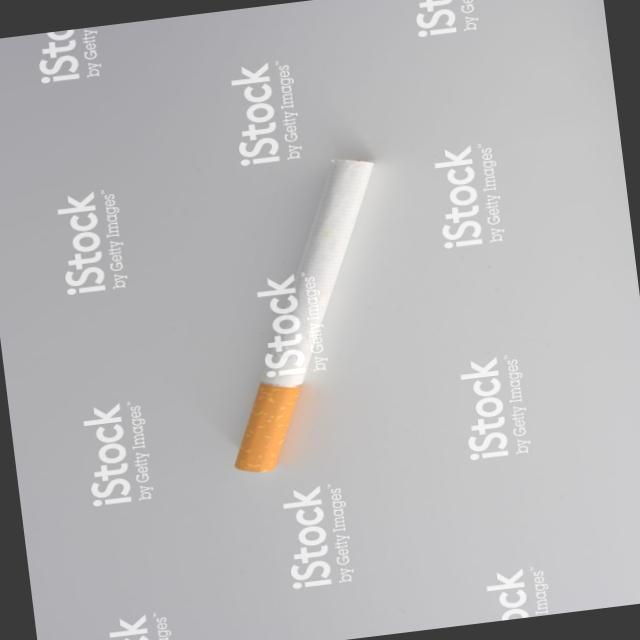cigarette: (188, 145, 424, 477)
